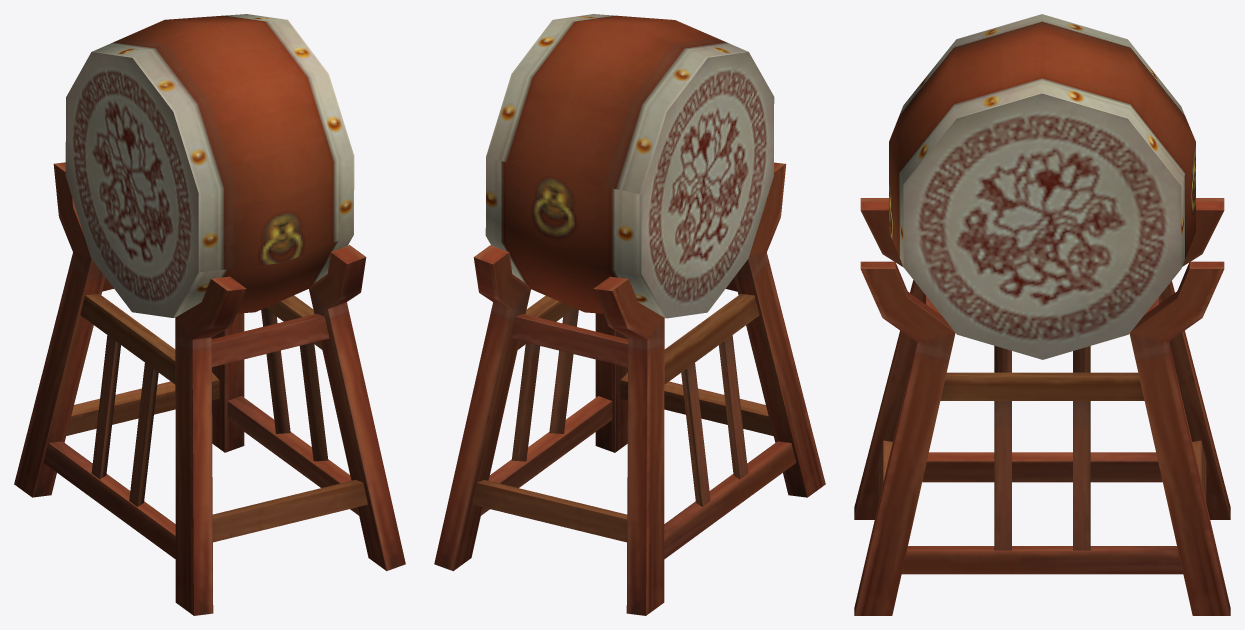
The model's file is oMscDrum01a.FBX.
3 views of the same model, side by side, from view 1: azimuth 30°, elevation 25°; view 2: azimuth 150°, elevation 25°; view 3: azimuth 270°, elevation 25° (orthographic). The views are drawn at different scales.
Visible parts, largest first — view 1: oMscDrum01a; view 2: oMscDrum01a; view 3: oMscDrum01a.
Part boxes in pixels (left/top/right/bottom): oMscDrum01a: left=14, top=14, right=405, bottom=615; oMscDrum01a: left=434, top=14, right=825, bottom=615; oMscDrum01a: left=854, top=14, right=1230, bottom=615.
Bounding box in the file's own units: 11.08 × 24.99 × 16.29.
1 material, 1 textured.
